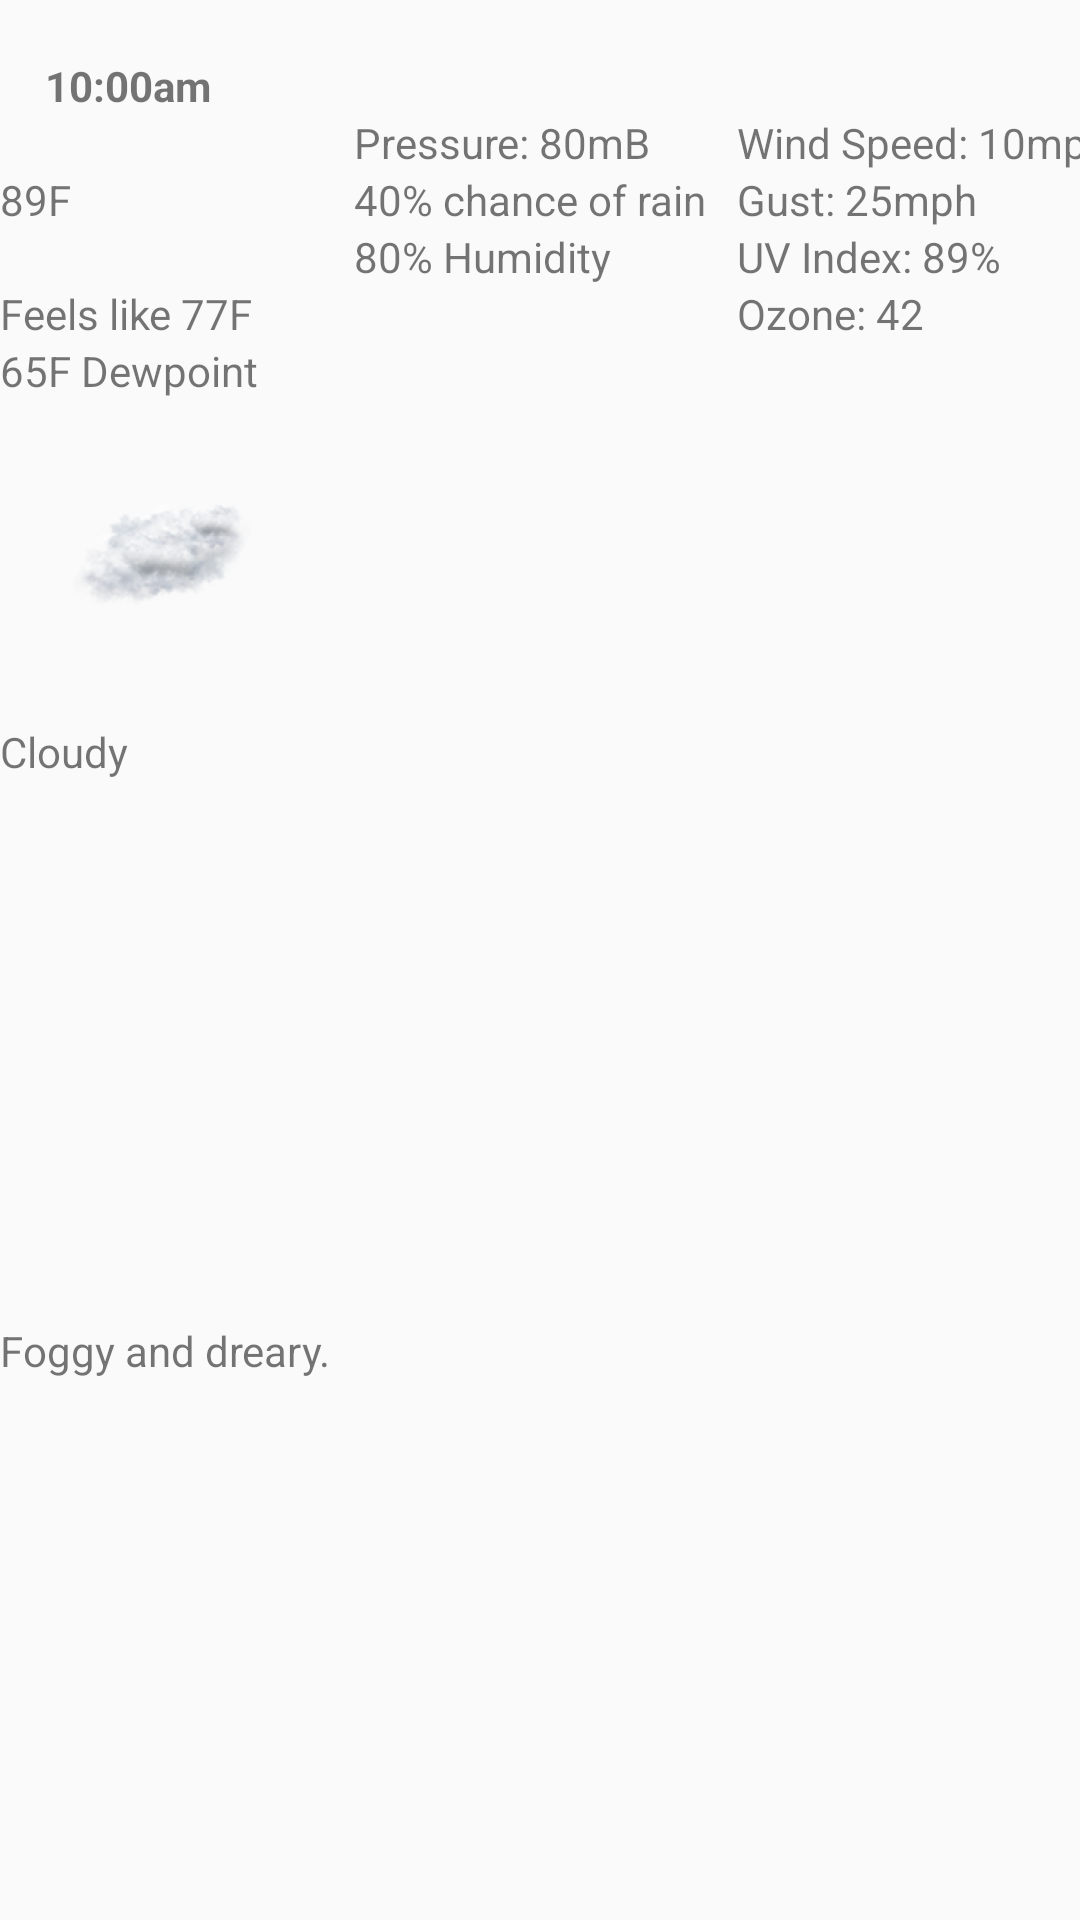

Icon bounding boxes for this 1080 × 1920 phone screenshot, format (x1, y1, x2, y2):
foggy: (86, 507, 238, 597)
